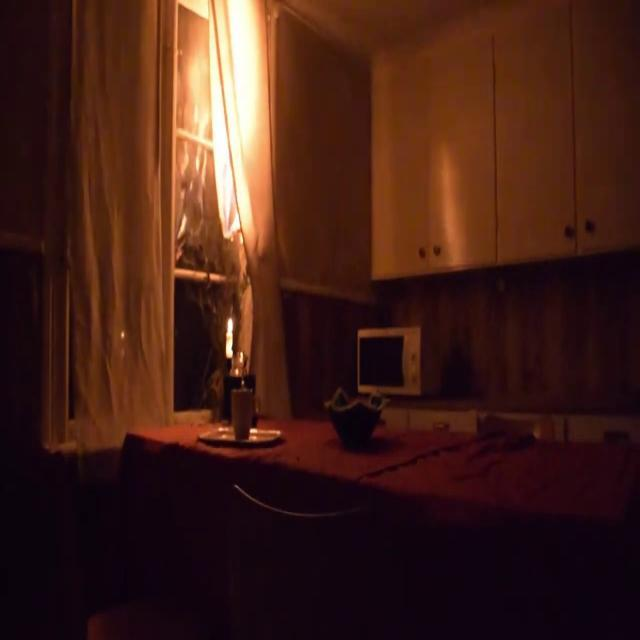Fire: (178, 2, 266, 242)
